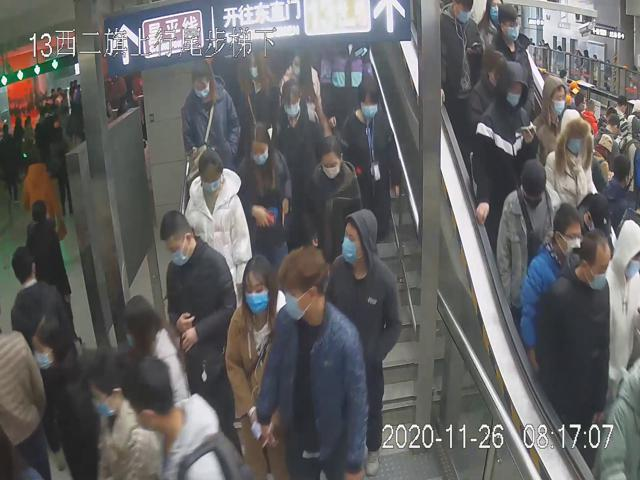person: (258, 243, 369, 477), (325, 206, 401, 472), (160, 210, 238, 452), (537, 228, 614, 454), (226, 251, 290, 473), (474, 59, 539, 229), (182, 149, 251, 306), (341, 77, 402, 247), (522, 202, 580, 365), (294, 133, 365, 263), (178, 57, 241, 179), (235, 120, 289, 249), (273, 76, 324, 188)
